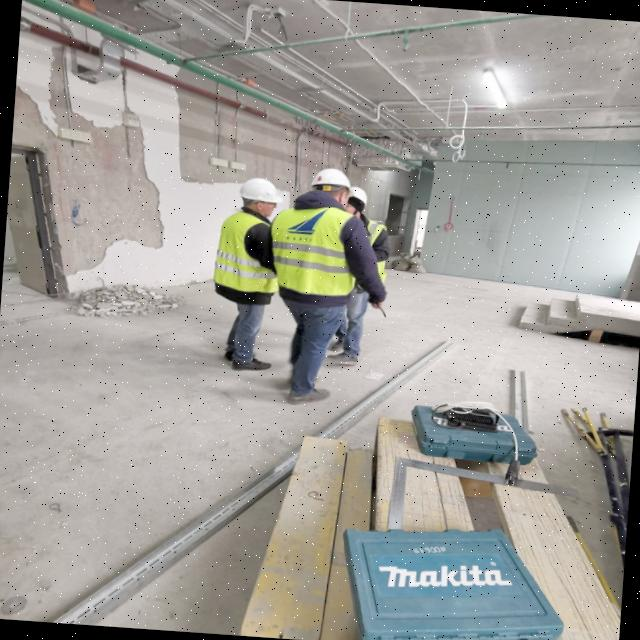Helmet: (239, 177, 285, 210), (311, 167, 354, 197), (349, 186, 372, 208)
Jacket: (274, 196, 356, 298), (221, 206, 284, 296)
